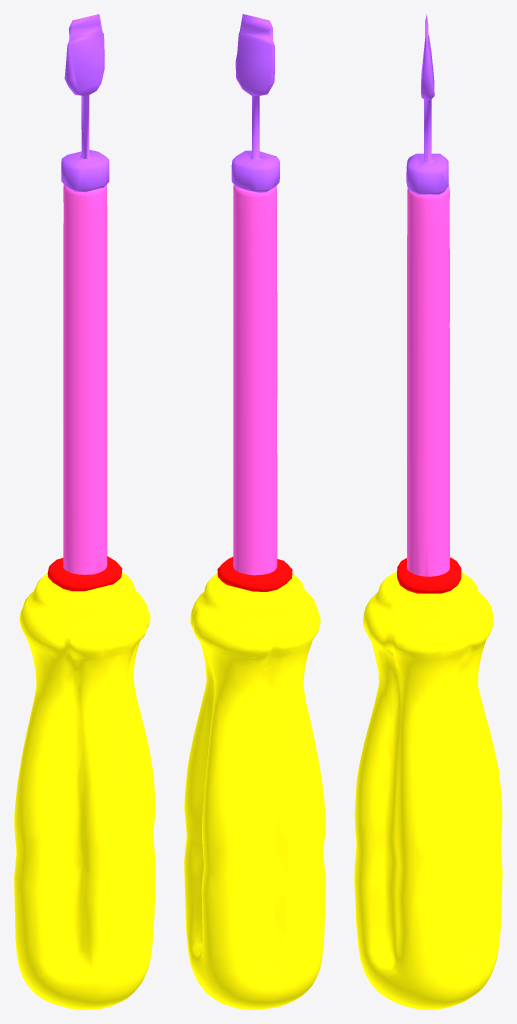
Rendered from ex2_gen1.glb.
The picture shows the model from 3 angles, left to right: view 1: azimuth 30°, elevation 25°; view 2: azimuth 150°, elevation 25°; view 3: azimuth 270°, elevation 25°; orthographic projection.
Parts seen in each view (by area): view 1: geometry_2, geometry_1, geometry_0, geometry_3; view 2: geometry_2, geometry_1, geometry_0, geometry_3; view 3: geometry_2, geometry_1, geometry_0, geometry_3.
Boxes of the visible parts, bbox=[...] form: geometry_2: bbox=[14, 572, 155, 1009]; geometry_1: bbox=[63, 184, 107, 574]; geometry_0: bbox=[61, 14, 109, 192]; geometry_3: bbox=[47, 556, 122, 591]; geometry_2: bbox=[184, 573, 325, 1009]; geometry_1: bbox=[233, 185, 277, 575]; geometry_0: bbox=[231, 14, 279, 192]; geometry_3: bbox=[217, 557, 292, 591]; geometry_2: bbox=[354, 571, 502, 1009]; geometry_1: bbox=[407, 185, 449, 576]; geometry_0: bbox=[406, 14, 448, 194]; geometry_3: bbox=[397, 557, 461, 593].
Bounding box in the file's own units: 0.1952 × 1.39 × 0.1913.
